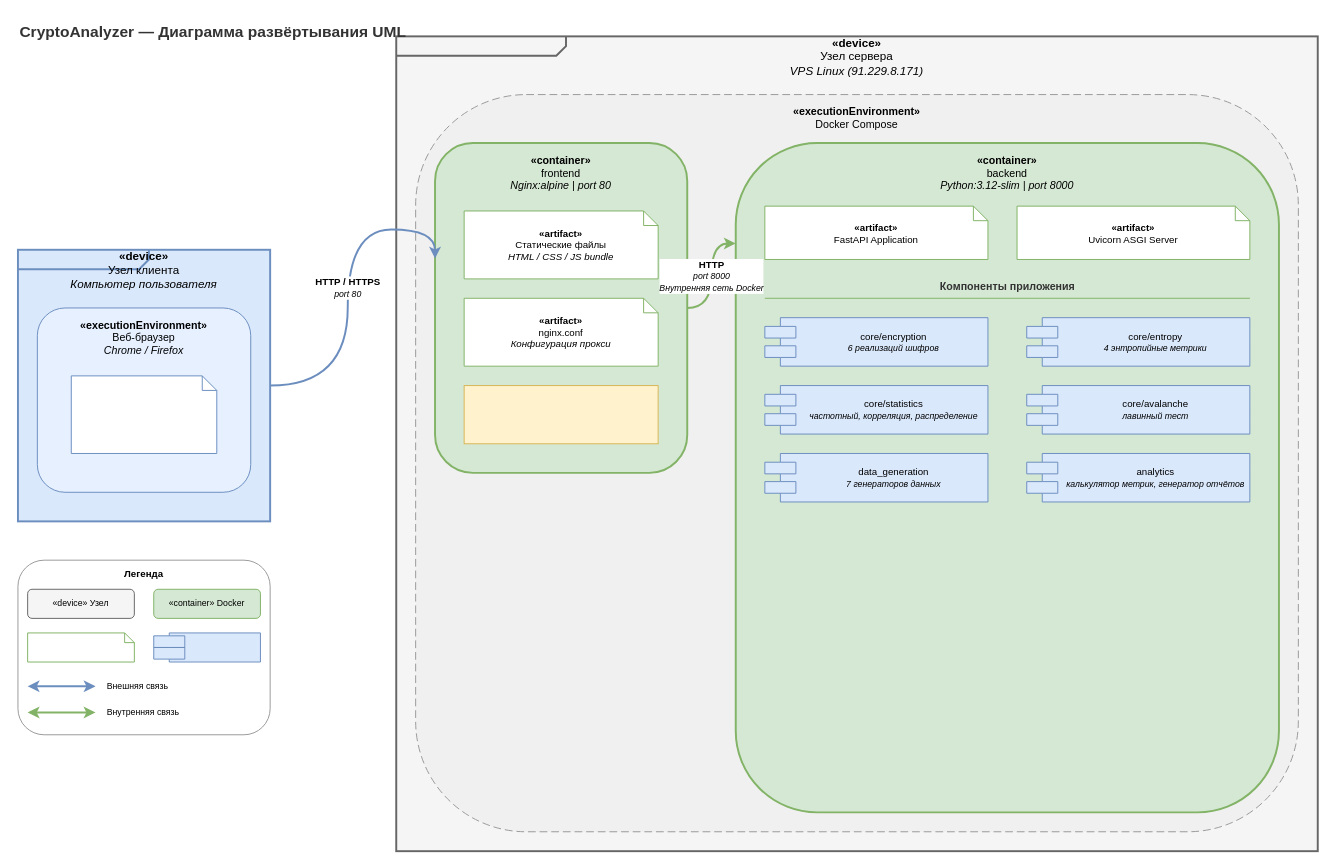
The diagram is 1335 pixels wide and 868 high, and some of its shapes have lost their labels. Here are the shapes that lost their labels. From the top down, the centre of each, then its label:
At [143,414]: "«artifact» React SPA JavaScript".
At [560,414]: "Маршрутизация: / → статические файлы /api → backend:8000".
At [80,647]: "«artifact»".
At [206,647]: "Компонент".
